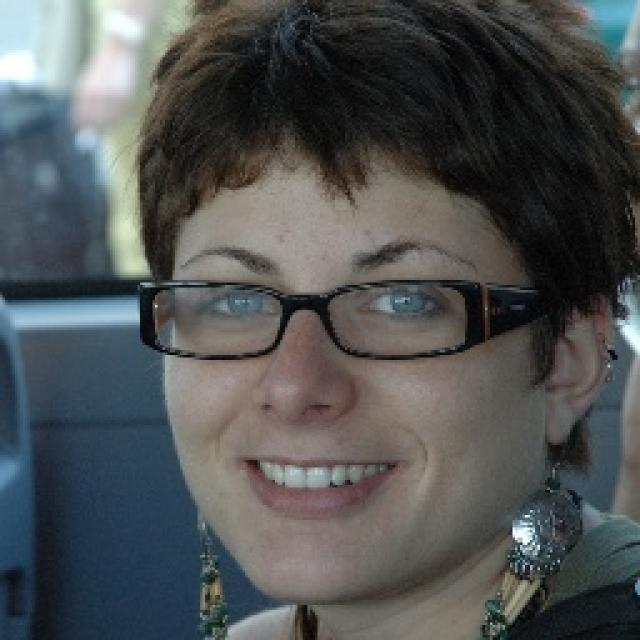earlobe: (544, 290, 614, 444)
